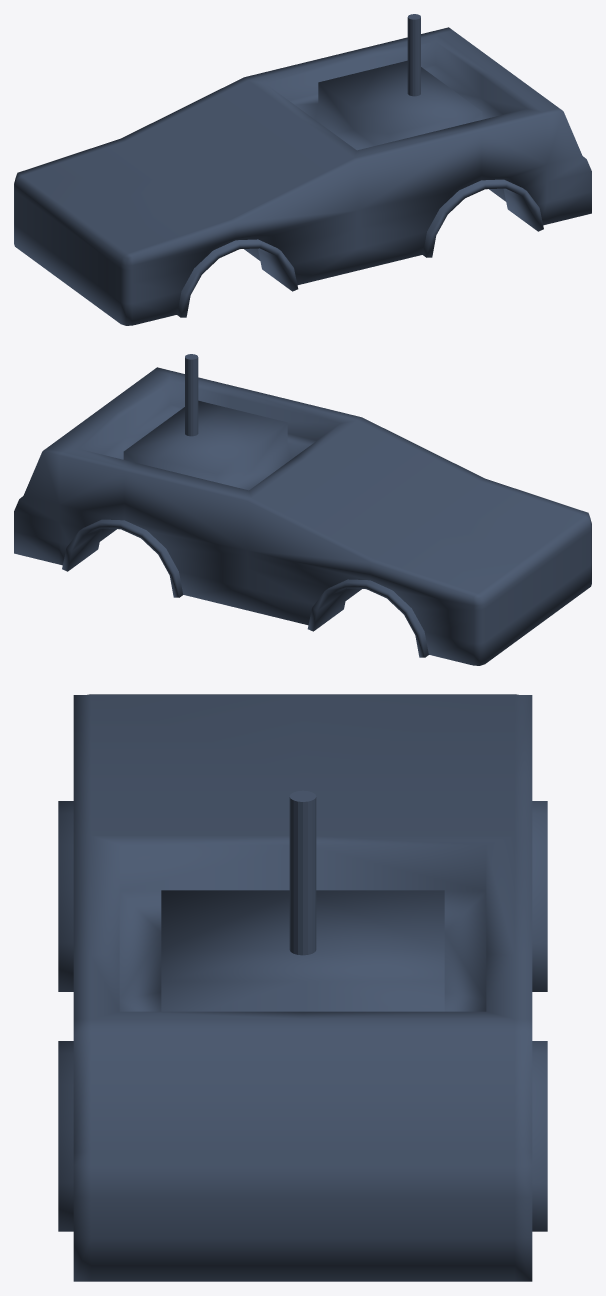
Rendered from chassi.dae.
The picture shows the model from 3 angles, top to bottom: view 1: azimuth 30°, elevation 25°; view 2: azimuth 150°, elevation 25°; view 3: azimuth 270°, elevation 25°; orthographic projection. The views are drawn at different scales.
Visible parts, largest first — view 1: Chassi; view 2: Chassi; view 3: Chassi.
Part boxes in pixels (x1,y1,x2,y2): Chassi: [14, 14, 591, 325]; Chassi: [14, 354, 591, 665]; Chassi: [58, 694, 547, 1281].
Bounding box in the file's own units: 11.4 × 5.17 × 4.33.
